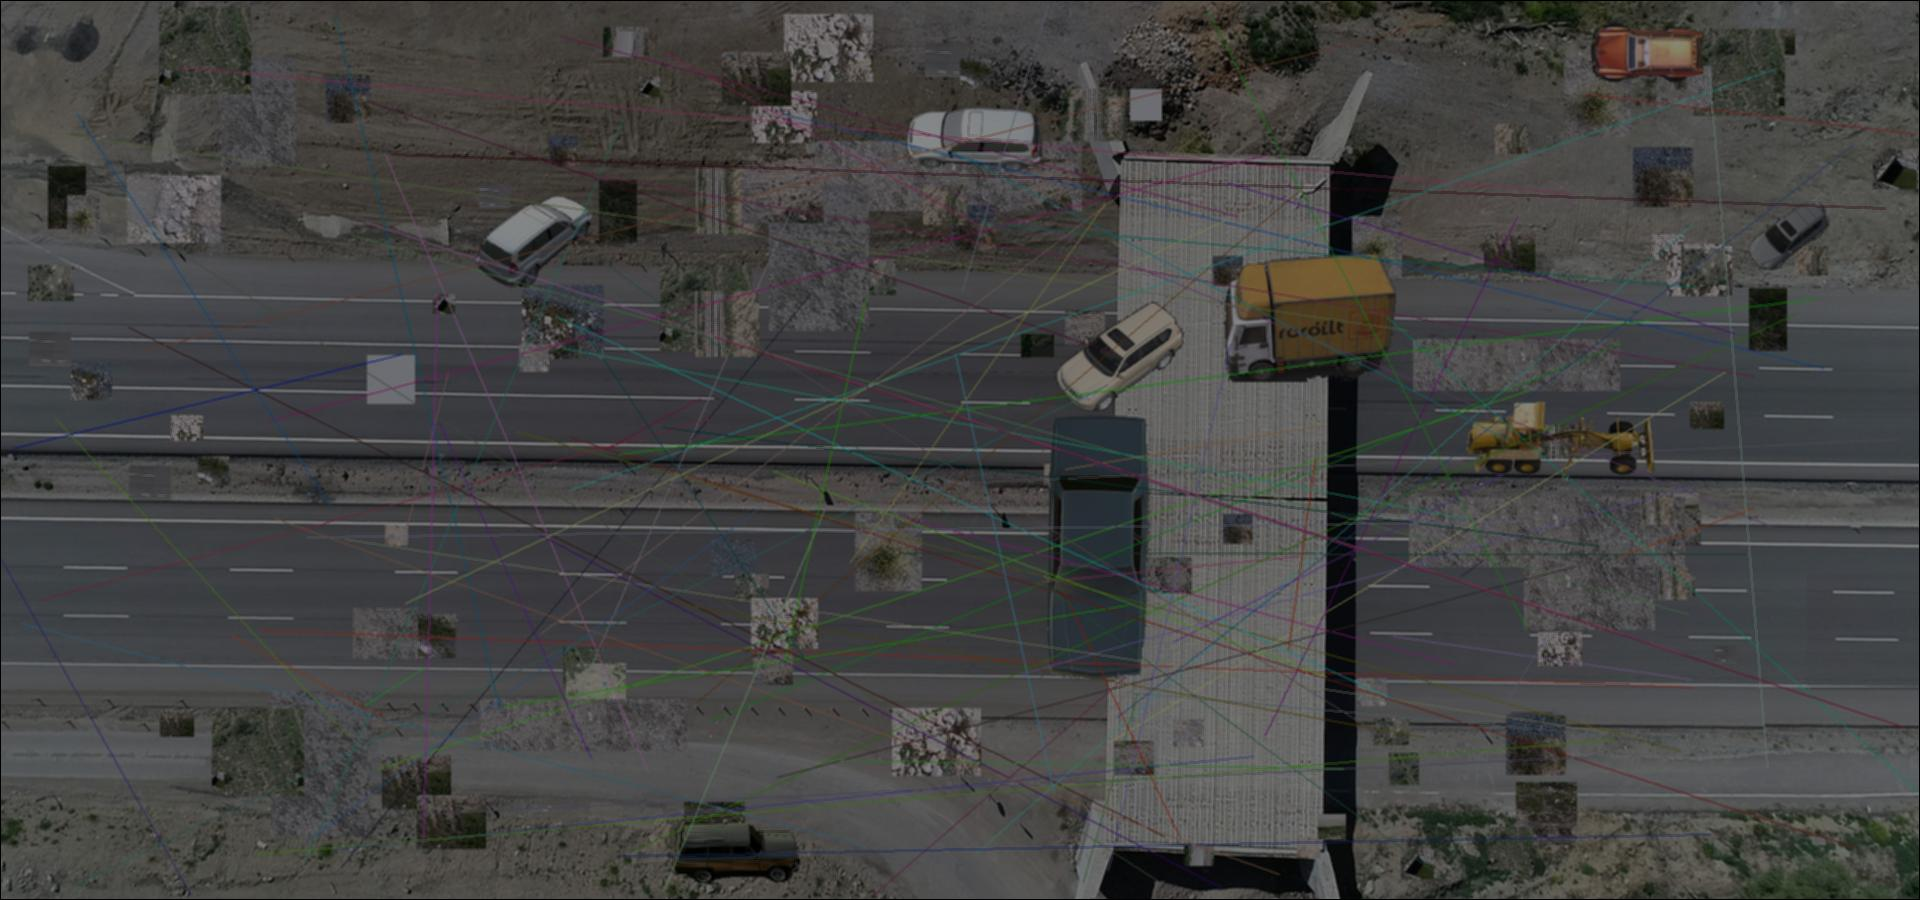arac: (1040, 411, 1153, 681), (1217, 253, 1396, 382), (1463, 400, 1660, 482), (1053, 302, 1188, 411), (474, 187, 595, 290), (906, 104, 1048, 171), (673, 823, 800, 883), (1589, 23, 1707, 84), (1746, 202, 1829, 269)
